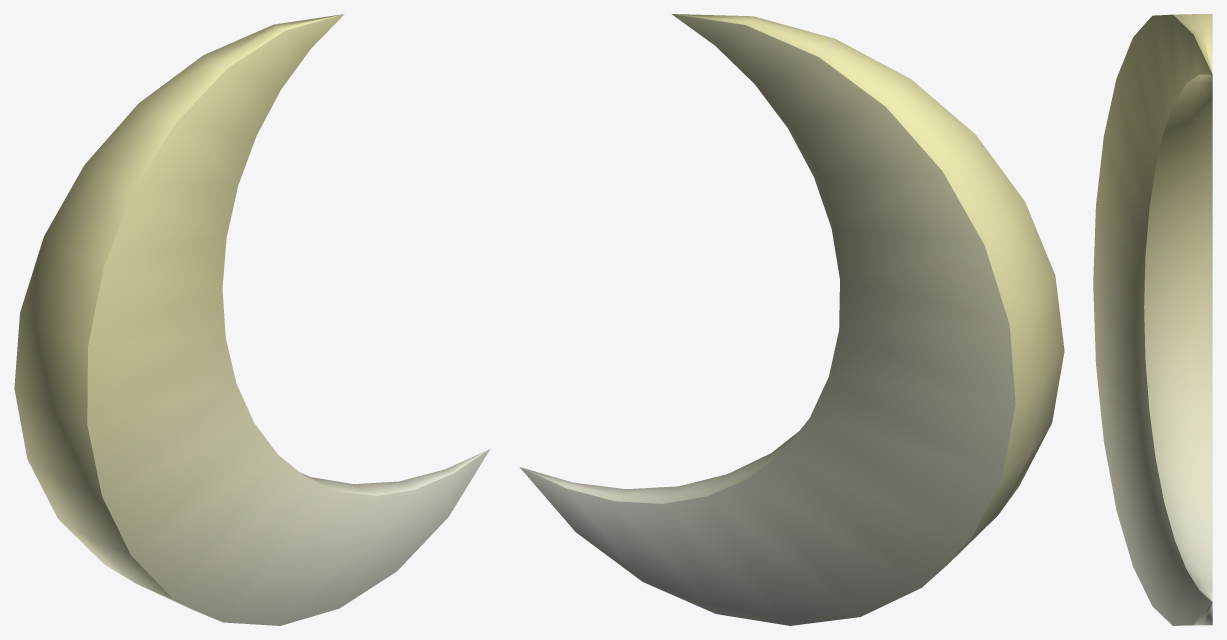
File: moon.obj
3 views of the same model, side by side, from view 1: azimuth 30°, elevation 25°; view 2: azimuth 150°, elevation 25°; view 3: azimuth 270°, elevation 25° (orthographic). The views are drawn at different scales.
Visible parts, largest first — view 1: 円.003; view 2: 円.003; view 3: 円.003.
Part boxes in pixels (box(x1,y1,x2,y2)): 円.003: box(14, 14, 489, 625); 円.003: box(519, 14, 1064, 625); 円.003: box(1093, 14, 1212, 625).
Size of the model in its own units: 1.74 by 2 by 0.3882.
1 material, 1 textured.
